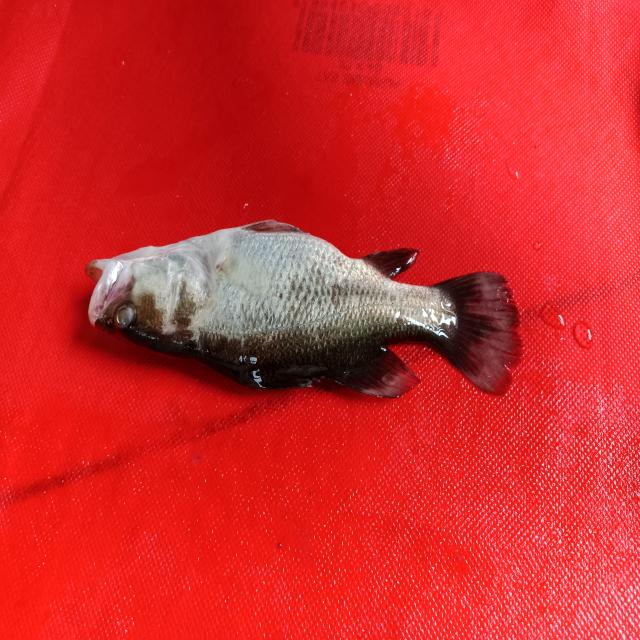ikan: (74, 197, 530, 420)
